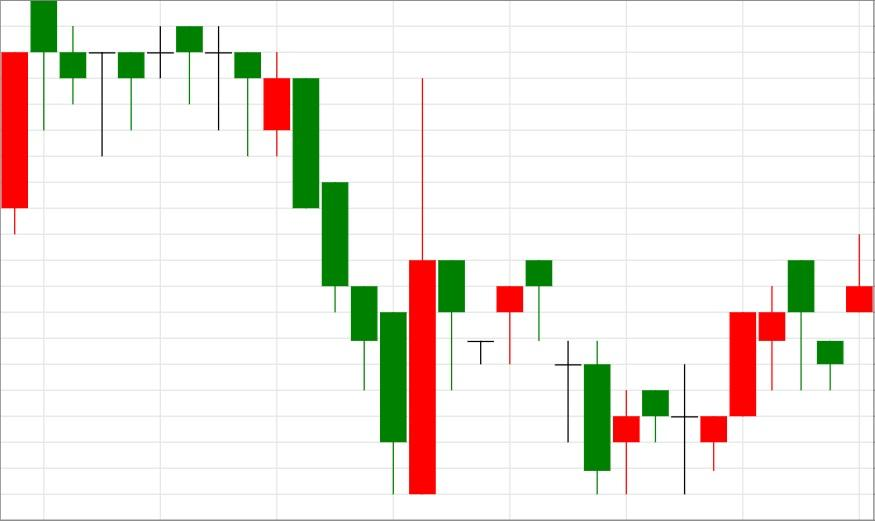bullish_engulfing_rise: (175, 25, 438, 494)
hanging_man_fall: (467, 259, 553, 365)
